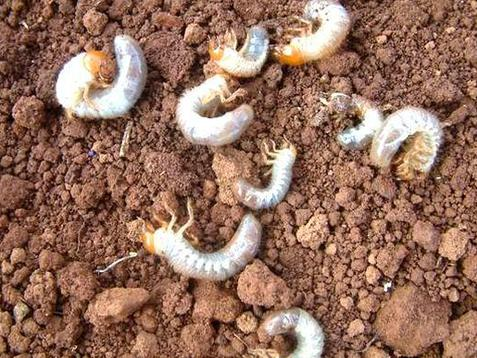grub: (49, 22, 161, 141)
